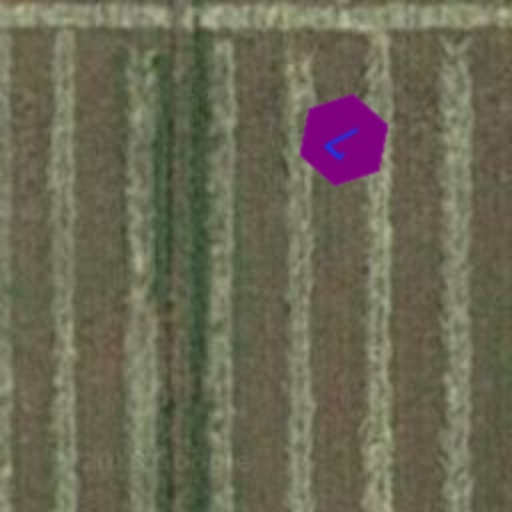hexagon: (276, 72, 412, 208)
